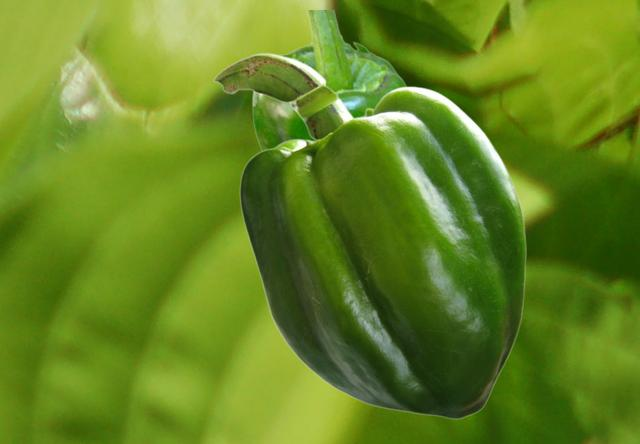bell_pepper: (213, 52, 525, 418), (251, 10, 406, 149)
